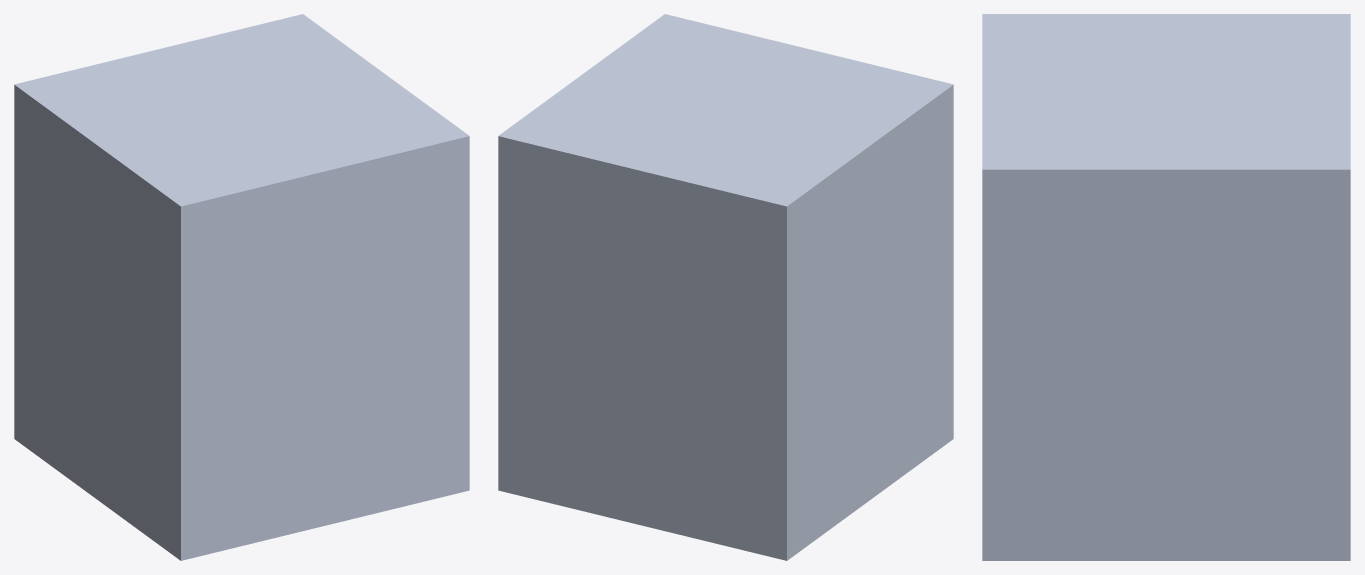
File: hakama_manga_sup.glb
3 renders of one model, left to right at view 1: azimuth 30°, elevation 25°; view 2: azimuth 150°, elevation 25°; view 3: azimuth 270°, elevation 25°, orthographic. The views are drawn at different scales.
Visible parts, largest first — view 1: hakama_manga_sup; view 2: hakama_manga_sup; view 3: hakama_manga_sup.
Boxes of the visible parts, x1,y1,x2,y2 form: hakama_manga_sup: (14,14,469,560); hakama_manga_sup: (498,14,953,560); hakama_manga_sup: (982,14,1350,560).
Size of the model in its own units: 0.29 by 0.34 by 0.29.
